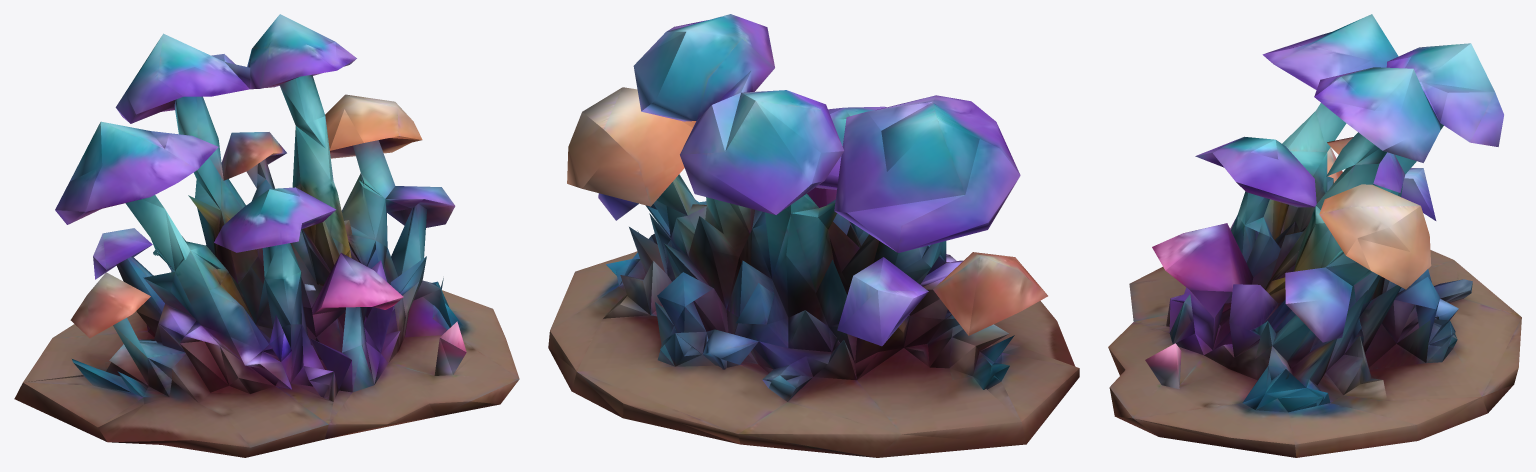
File: m2GlowMushrooms.glb
3 renders of one model, left to right at view 1: azimuth 30°, elevation 25°; view 2: azimuth 150°, elevation 25°; view 3: azimuth 270°, elevation 25°, orthographic. The views are drawn at different scales.
Parts seen in each view (by area): view 1: model; view 2: model; view 3: model.
Part boxes in pixels (box(x1,y1,x2,y2)): model: box(14, 14, 519, 457); model: box(548, 14, 1079, 457); model: box(1108, 14, 1521, 457).
Size of the model in its own units: 1.9 by 1.27 by 1.52.
1 material, 1 textured.
